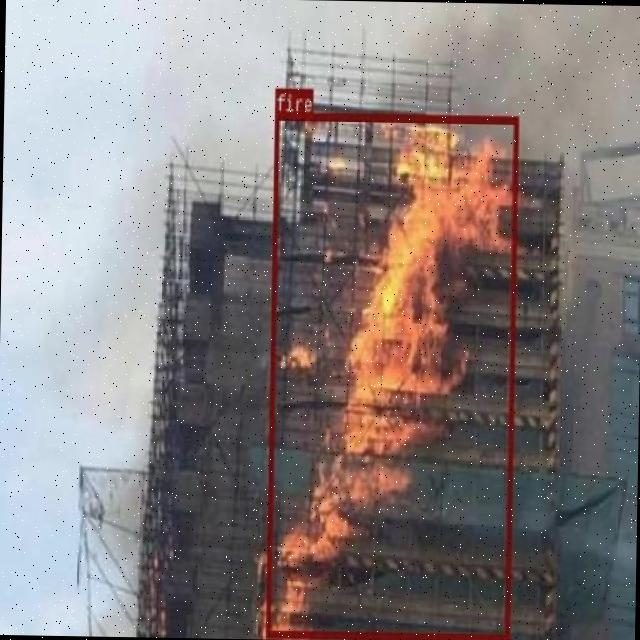fire: (266, 111, 518, 640)
